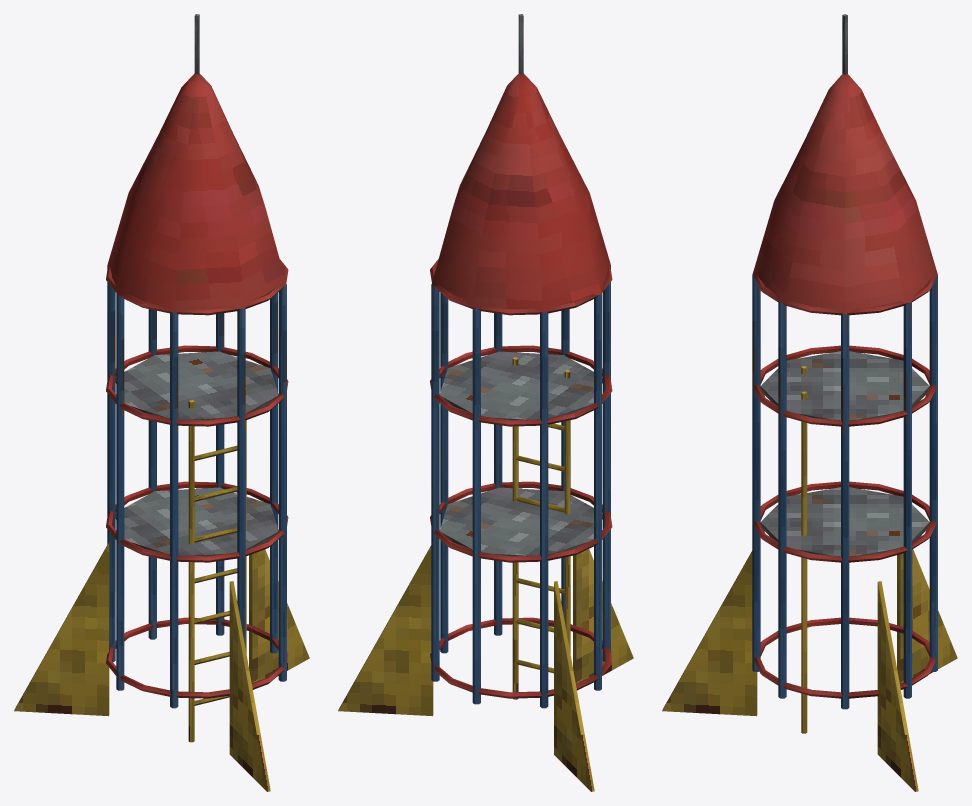
File: rocket.glb
3 views of the same model, side by side, from view 1: azimuth 30°, elevation 25°; view 2: azimuth 150°, elevation 25°; view 3: azimuth 270°, elevation 25° (orthographic).
Visible parts, largest first — view 1: rocket; view 2: rocket; view 3: rocket.
Boxes of the visible parts, left/top/right/bottom form: rocket: left=14, top=14, right=309, bottom=791; rocket: left=338, top=14, right=633, bottom=791; rocket: left=662, top=14, right=957, bottom=791.
Bounding box in the file's own units: 2.34 × 5.7 × 2.17.
Materials: 1 (1 with a texture image).
